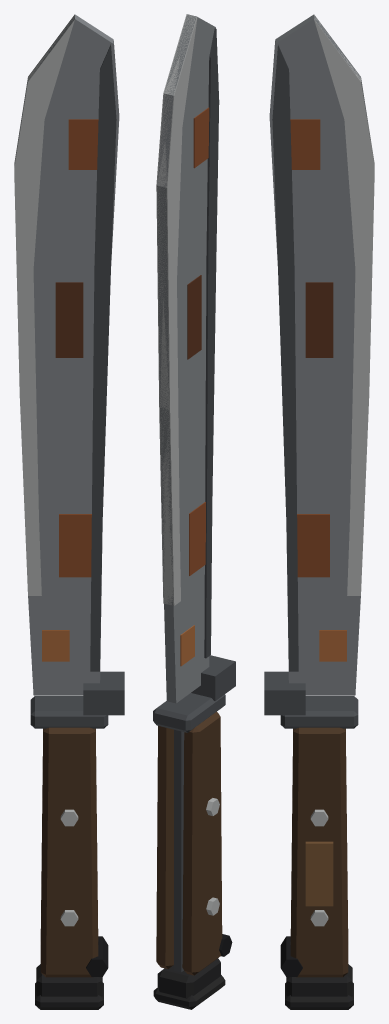
Rendered from melee_machete.fbx.
3 renders of one model, left to right at view 1: azimuth 90°, elevation 25°; view 2: azimuth 150°, elevation 25°; view 3: azimuth 270°, elevation 25°, orthographic.
Parts seen in each view (by area): view 1: melee_machete; view 2: melee_machete; view 3: melee_machete.
Part boxes in pixels (bbox=[...]): melee_machete: bbox=[14, 14, 124, 1009]; melee_machete: bbox=[153, 14, 235, 1009]; melee_machete: bbox=[264, 14, 374, 1009].
Size of the model in its own units: 0.044 by 0.786 by 0.08.
